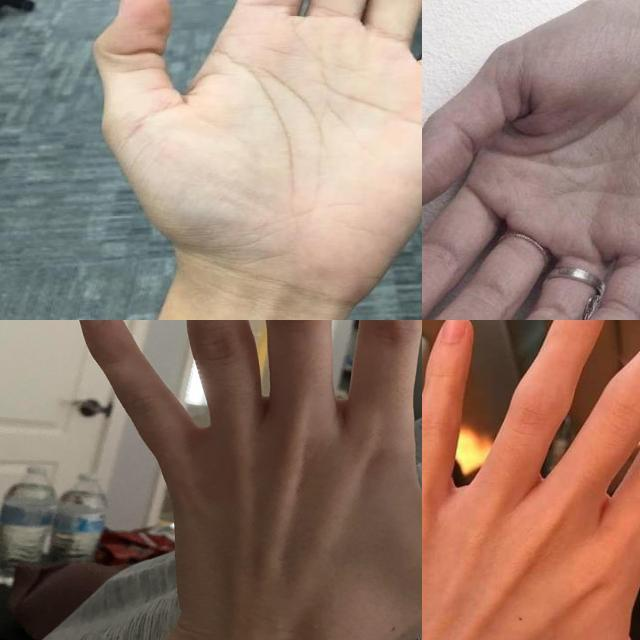hand: (65, 320, 422, 640), (94, 0, 422, 320), (422, 0, 640, 320), (422, 320, 640, 640)
